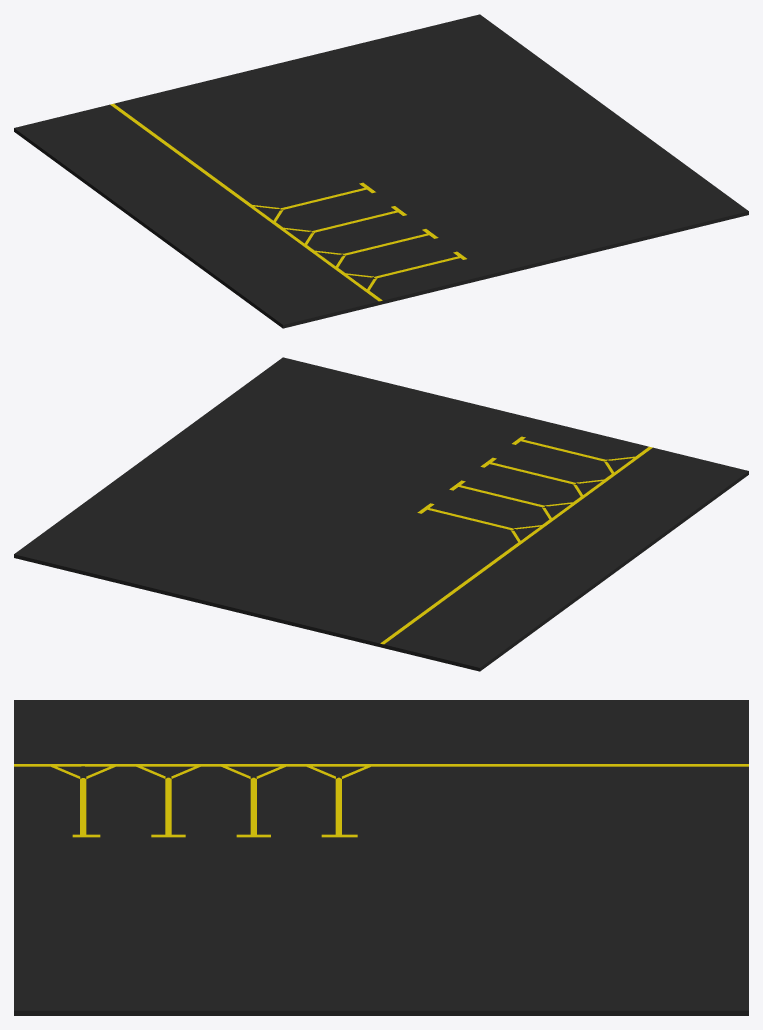
Rendered from Runway.fbx.
The picture shows the model from 3 angles, top to bottom: view 1: azimuth 30°, elevation 25°; view 2: azimuth 150°, elevation 25°; view 3: azimuth 270°, elevation 25°; orthographic projection. The views are drawn at different scales.
Visible parts, largest first — view 1: Runway; view 2: Runway; view 3: Runway.
Part boxes in pixels (bbox=[...]): Runway: bbox=[14, 14, 748, 328]; Runway: bbox=[14, 357, 748, 671]; Runway: bbox=[14, 700, 748, 1015].
Size of the model in its own units: 26270 by 200 by 26270.
